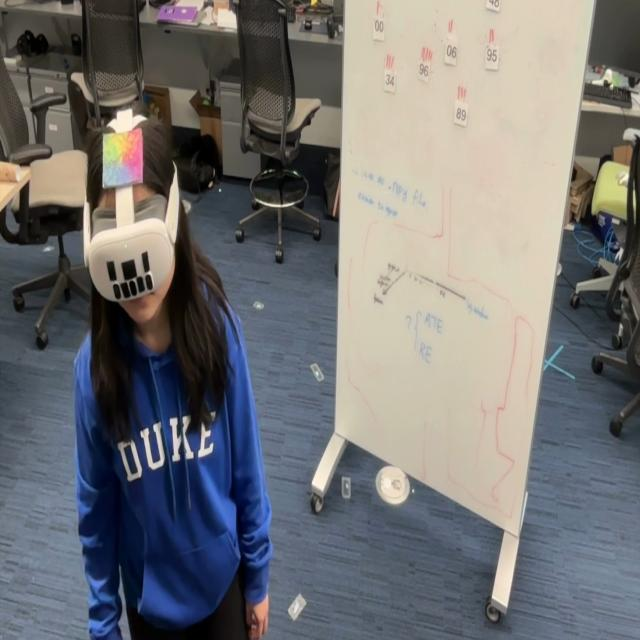Headset: (83, 158, 180, 303)
Marker: (102, 130, 144, 187)
